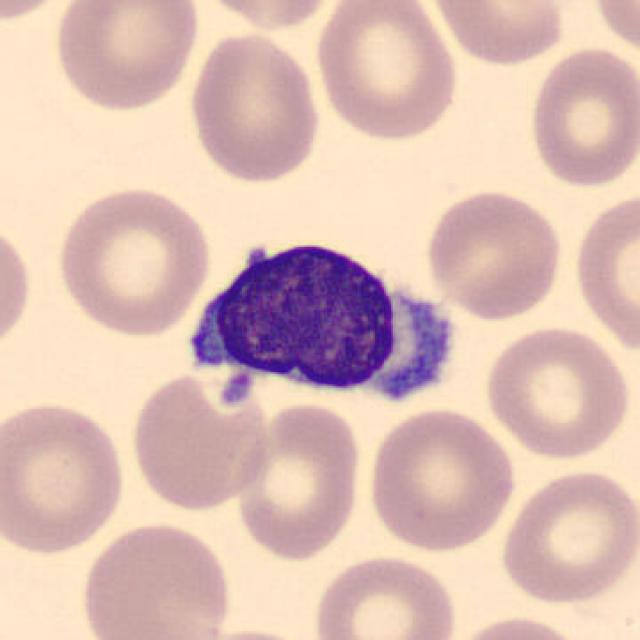Lymphocyte: (172, 224, 460, 414)
RBC: (52, 180, 215, 338), (363, 406, 519, 556), (185, 28, 325, 187), (124, 367, 274, 515), (233, 399, 366, 564), (311, 0, 462, 145), (480, 321, 635, 462), (0, 395, 130, 559), (421, 183, 567, 321), (496, 466, 638, 606), (76, 518, 235, 640), (49, 0, 202, 115), (524, 42, 638, 190), (310, 550, 460, 640), (569, 187, 640, 358), (425, 0, 571, 69), (188, 0, 346, 35), (0, 217, 34, 360), (446, 612, 594, 640), (587, 0, 638, 62), (185, 624, 331, 640), (0, 0, 76, 24)
